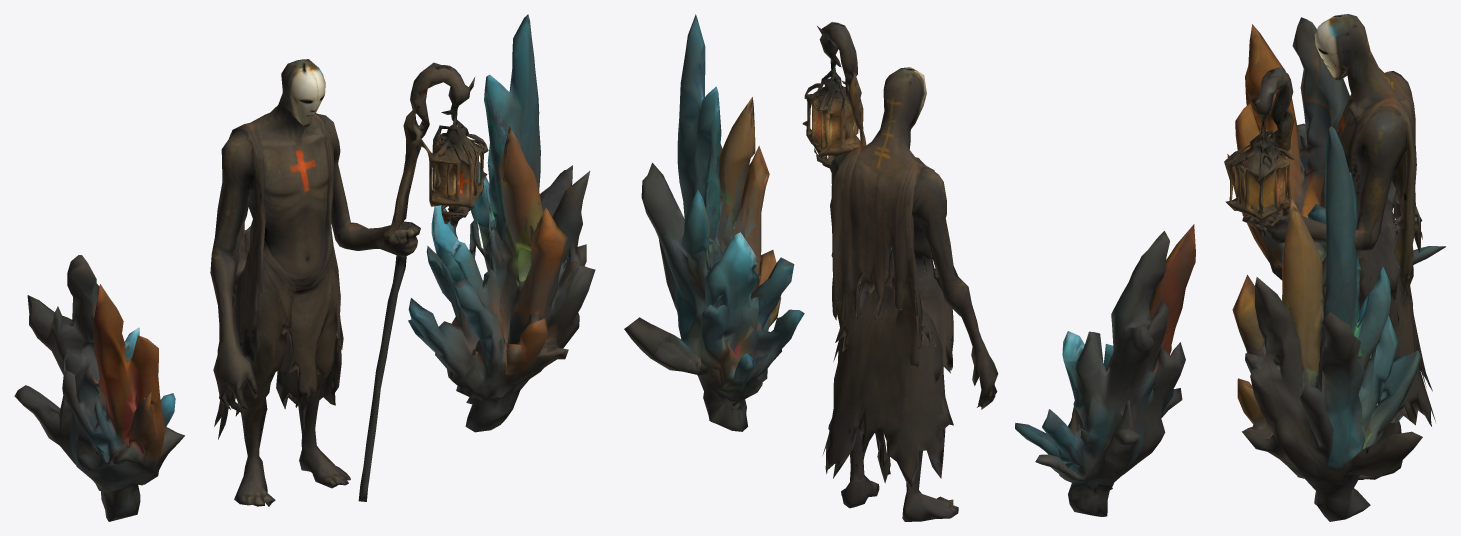
File: Guardian_of_the_Cryst_0530104738_texture.glb
3 renders of one model, left to right at view 1: azimuth 30°, elevation 25°; view 2: azimuth 150°, elevation 25°; view 3: azimuth 270°, elevation 25°, orthographic. The views are drawn at different scales.
Bounding box in the file's own units: 1.99 × 1.57 × 0.717.
Materials: 1 (1 with a texture image).
